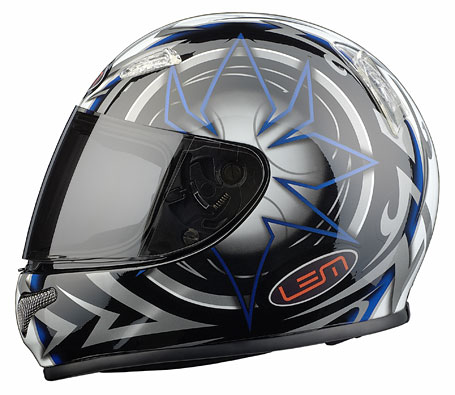helmet: (52, 18, 438, 345)
